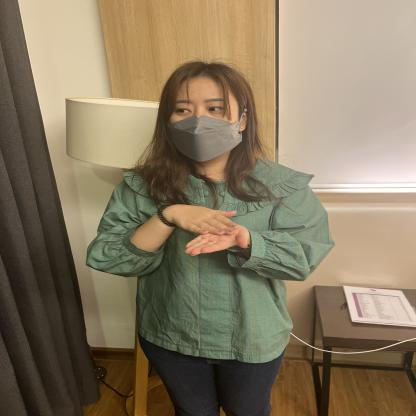Love: (56, 179, 336, 279)
